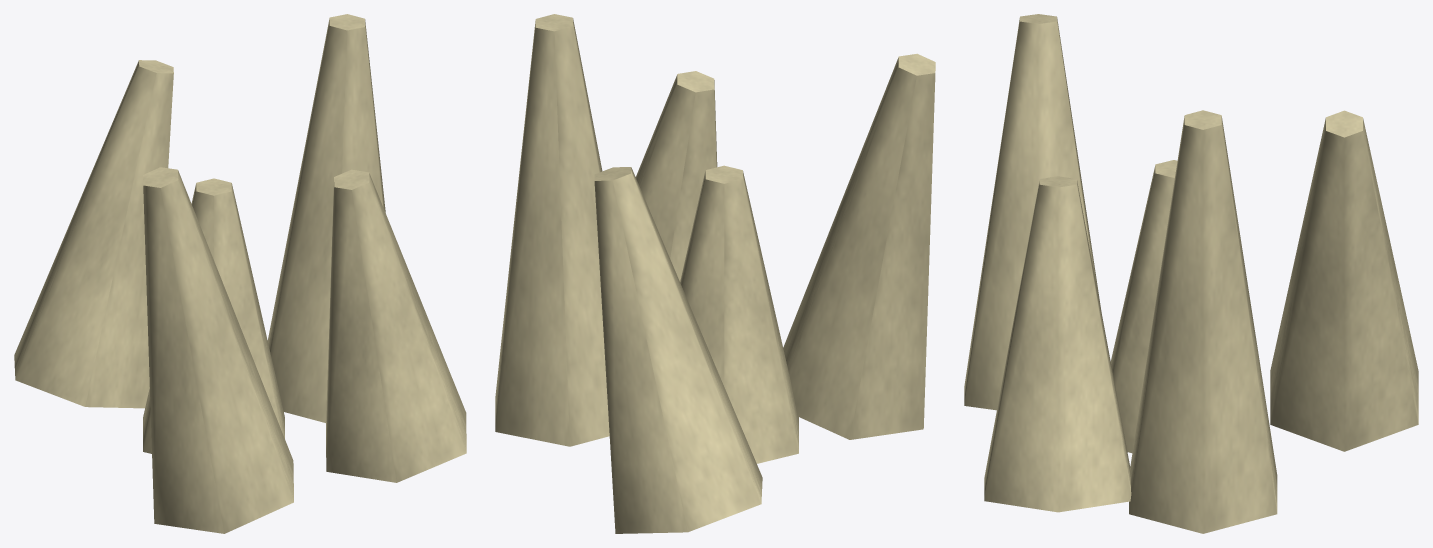
Rendered from item-Tepuibone.fbx.
The picture shows the model from 3 angles, left to right: view 1: azimuth 30°, elevation 25°; view 2: azimuth 150°, elevation 25°; view 3: azimuth 270°, elevation 25°; orthographic projection. The views are drawn at different scales.
Parts seen in each view (by area): view 1: item-Tepuibone__Geometry; view 2: item-Tepuibone__Geometry; view 3: item-Tepuibone__Geometry.
Boxes of the visible parts, bbox=[...] form: item-Tepuibone__Geometry: bbox=[14, 14, 466, 533]; item-Tepuibone__Geometry: bbox=[495, 14, 935, 533]; item-Tepuibone__Geometry: bbox=[964, 14, 1418, 533].
Size of the model in its own units: 0.2866 by 0.3075 by 0.3185.
Materials: 1 (1 with a texture image).
